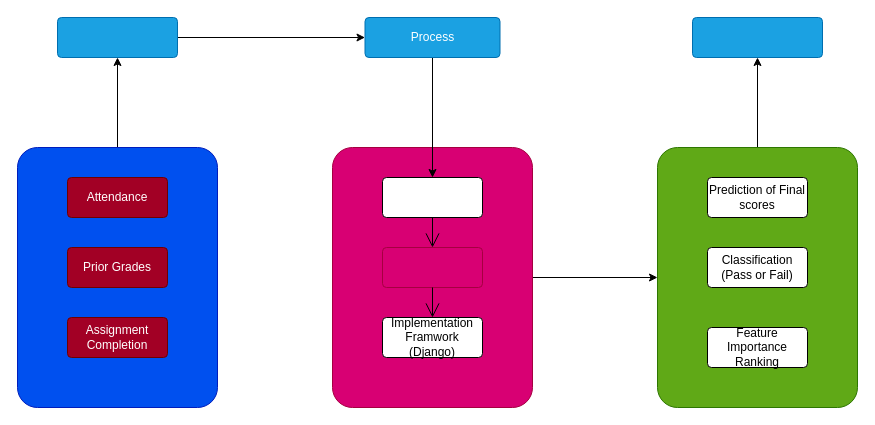
Image size: 875x425. Some labels were removed from this diagram. Here are the shapes that lost their labels. From the top down, the box of each, then its label:
(56, 16, 178, 58): Input
(692, 16, 822, 58): Output
(382, 176, 482, 218): Data Processing (Python)
(382, 246, 482, 288): Analytics Dashboard (Streamlit)
